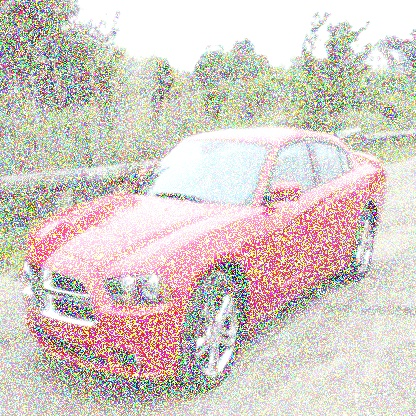Vehicle: (20, 126, 389, 392)
